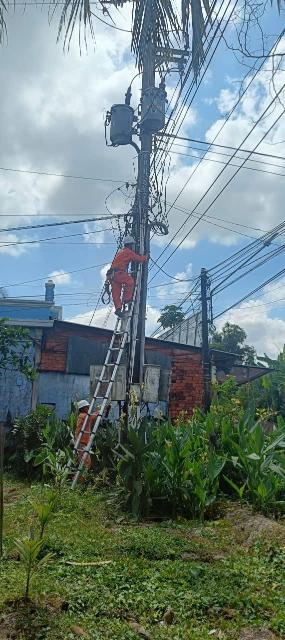harness: (104, 265, 125, 276)
helmet: (74, 398, 94, 410), (119, 236, 139, 248)
shoes: (112, 308, 129, 318), (123, 296, 136, 306)
